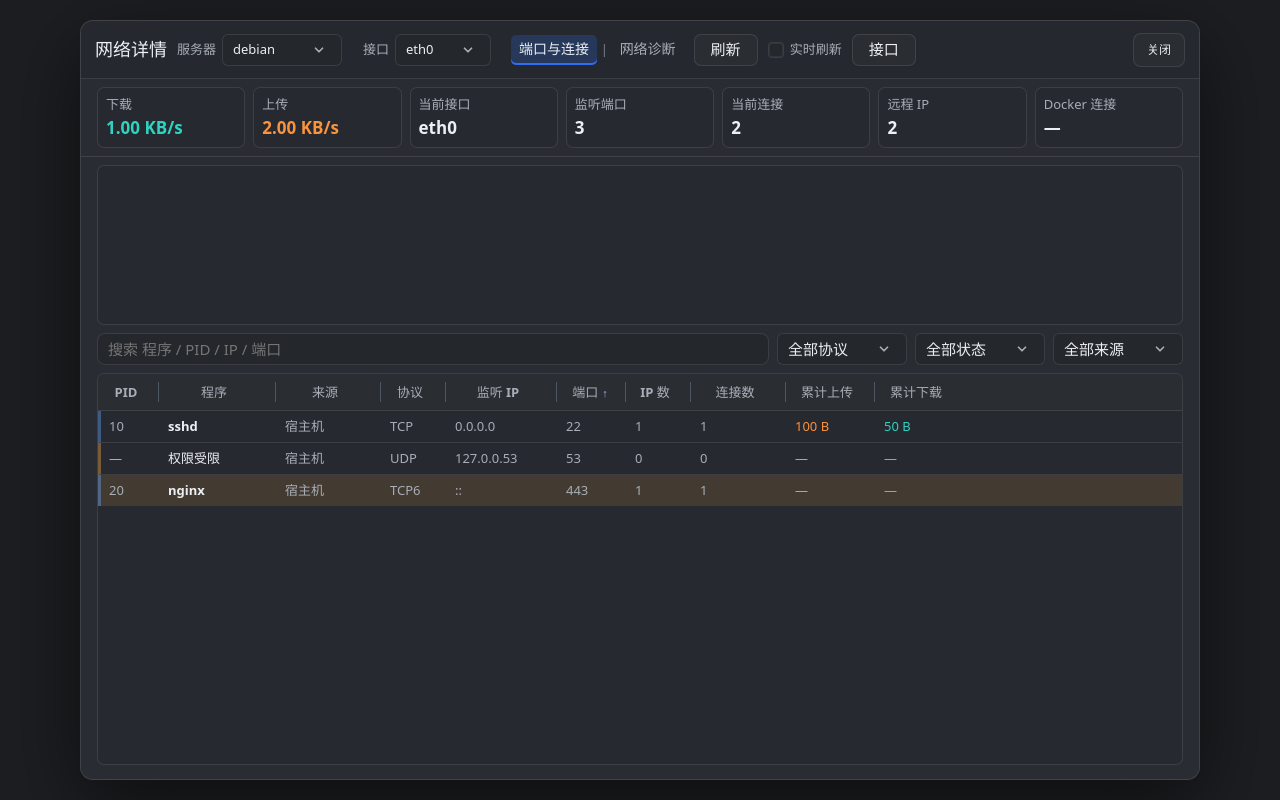
Test: NetworkDetailsDialog › uses a compact diagnostics commandbar and only shows port for TCP
Click the button "网络诊断" at (648, 50), box [612, 34, 684, 64]
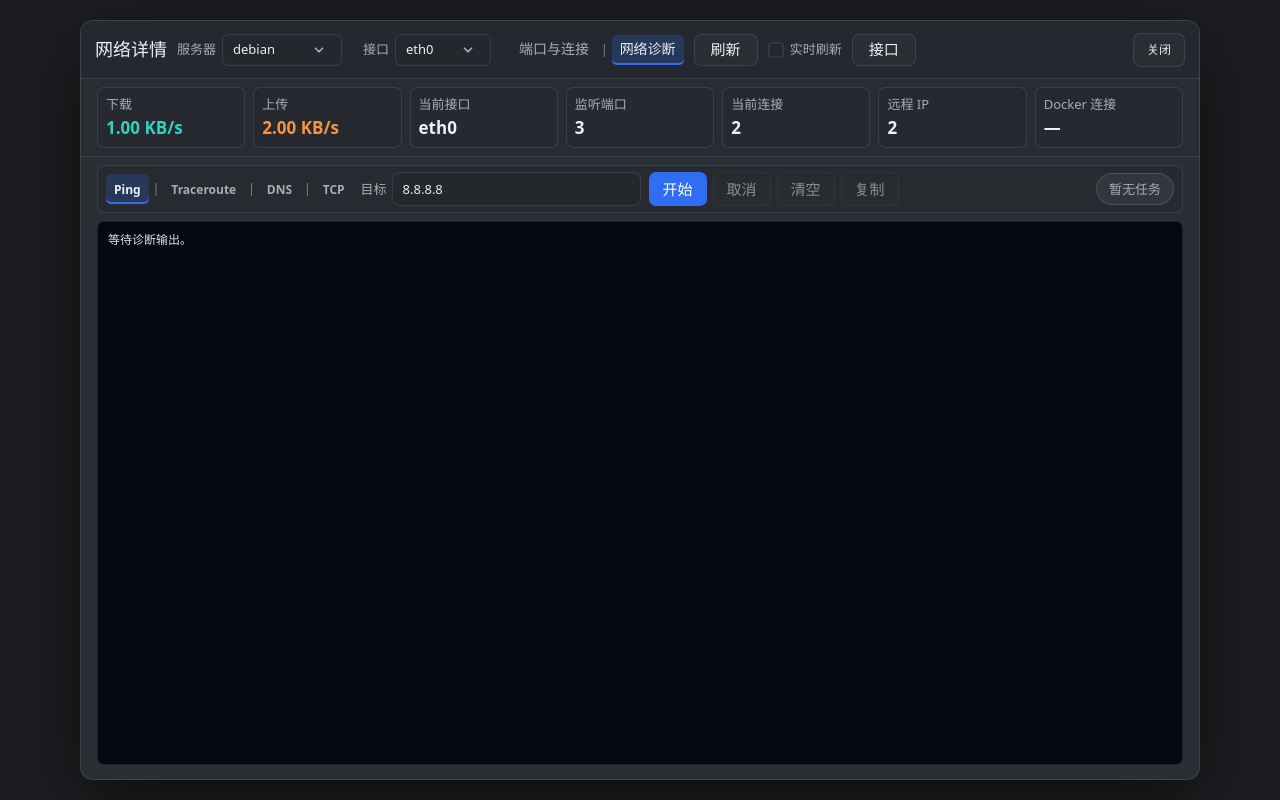
Expected: the element with class "network-diagnostics-commandbar" shows "Ping", [106, 174, 149, 204]
Expected: the element with class "network-diagnostics-commandbar" shows "Traceroute", [163, 174, 244, 204]
Expected: the element with class "network-diagnostics-commandbar" shows "DNS", [259, 174, 300, 204]
Click the button "TCP" at (334, 190), box [315, 174, 353, 204]
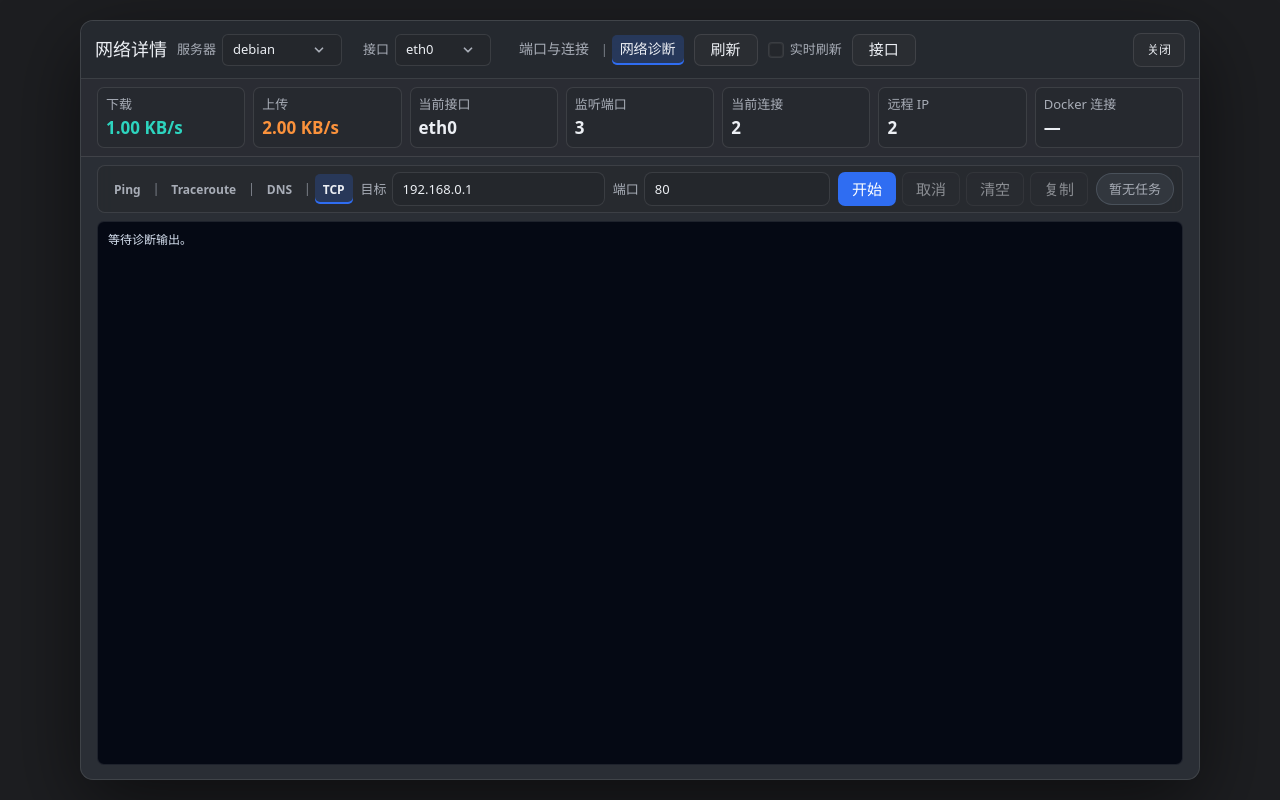
Expected: the text "端口" is shown, [613, 172, 830, 206]
